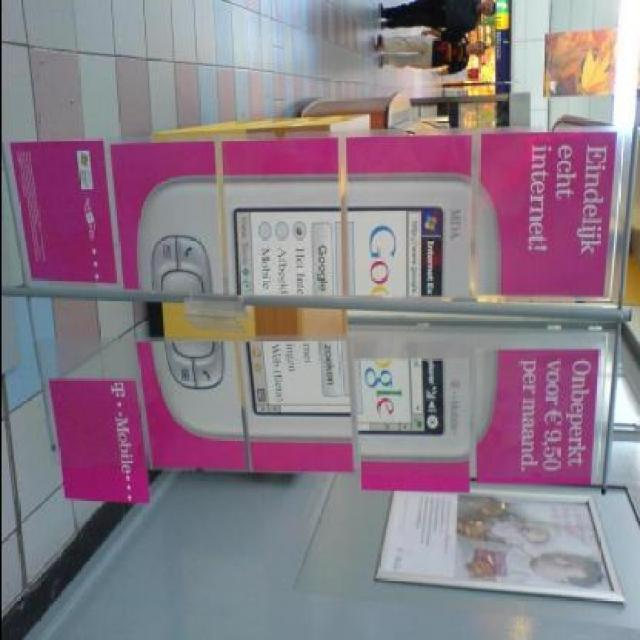phone: (147, 171, 501, 442)
